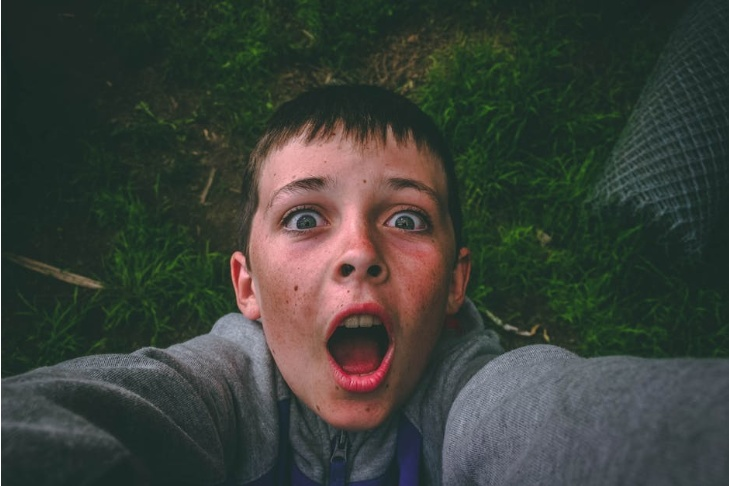face: (255, 122, 451, 431)
